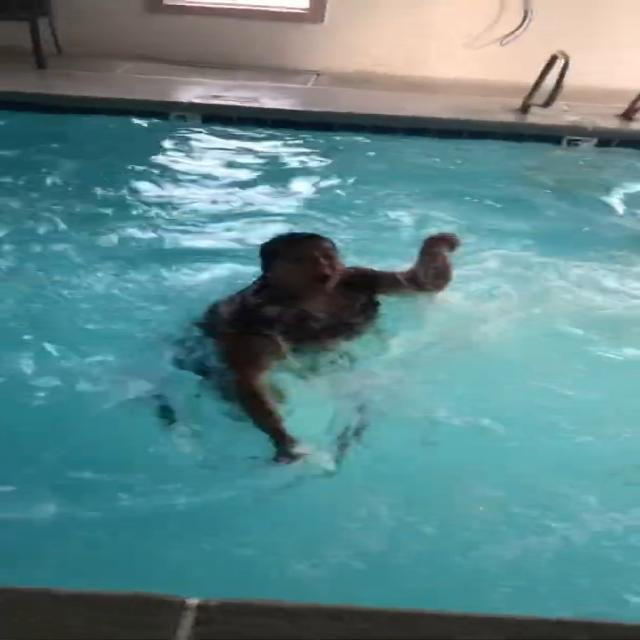Drowning: (193, 226, 470, 463)
